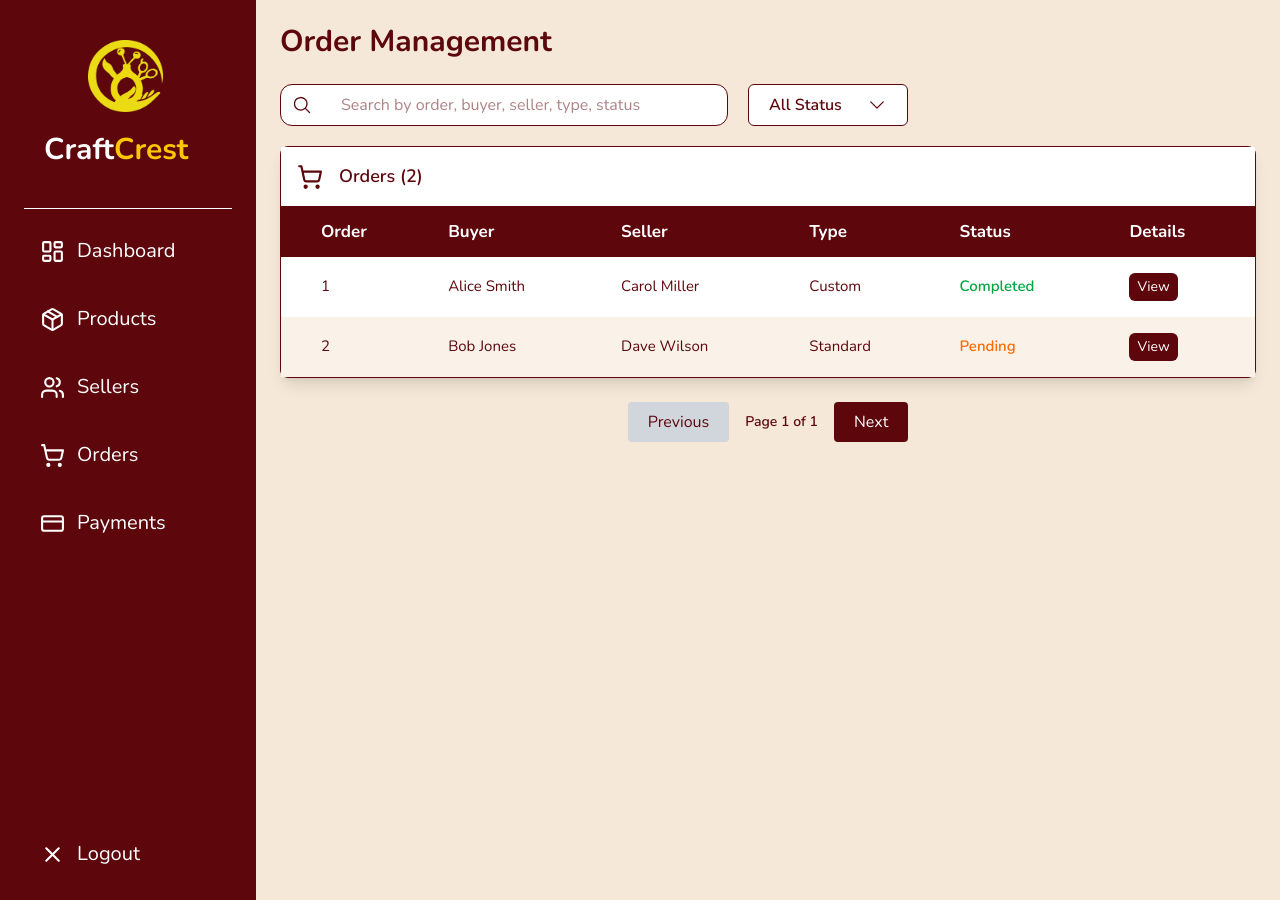
Test: OrdersPage › filters orders by status using dropdown
The image size is (1280, 900).
Click the button "All Status" at (828, 105), box [748,84,908,126]
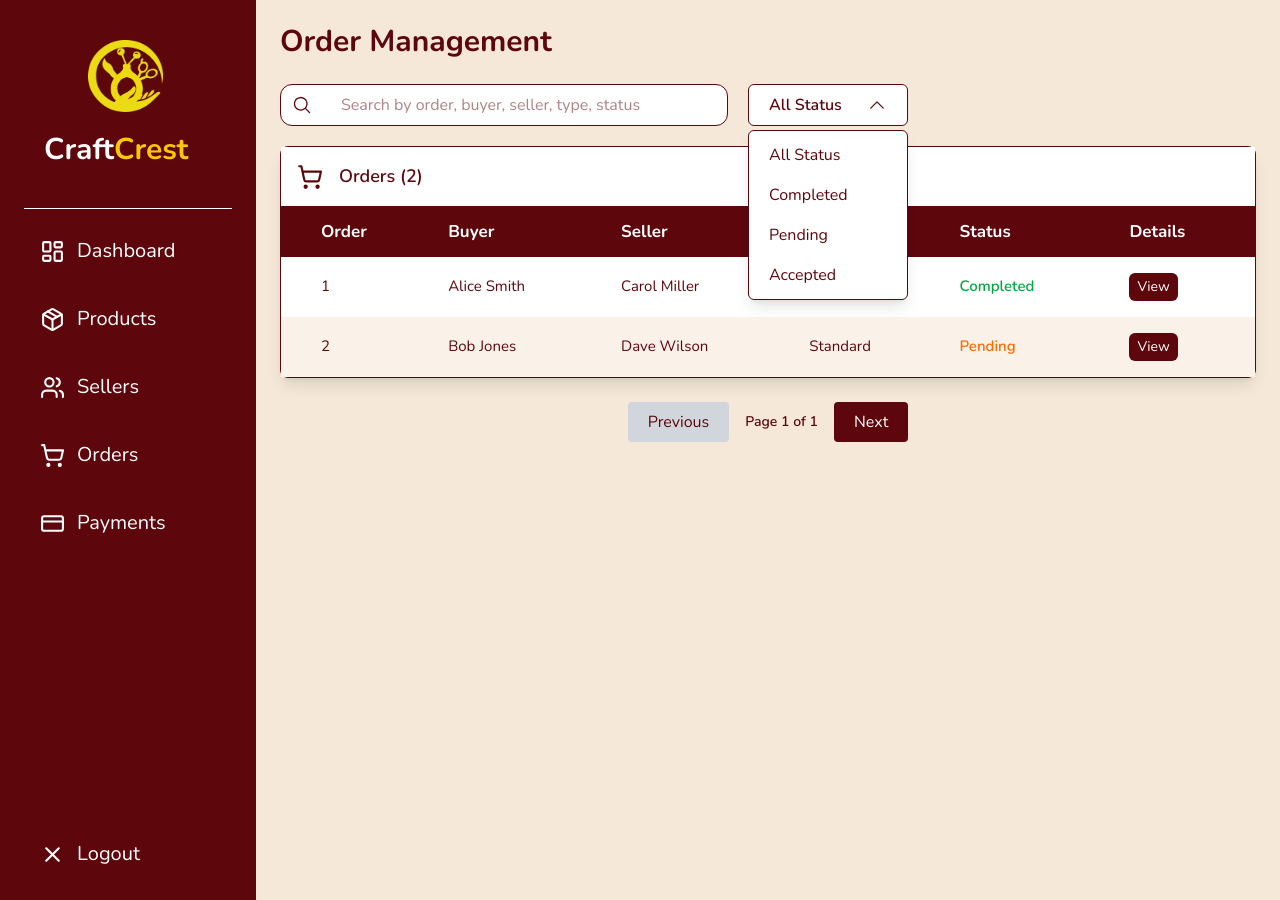
Click the option "Completed" at (808, 195), box [769,184,848,206]
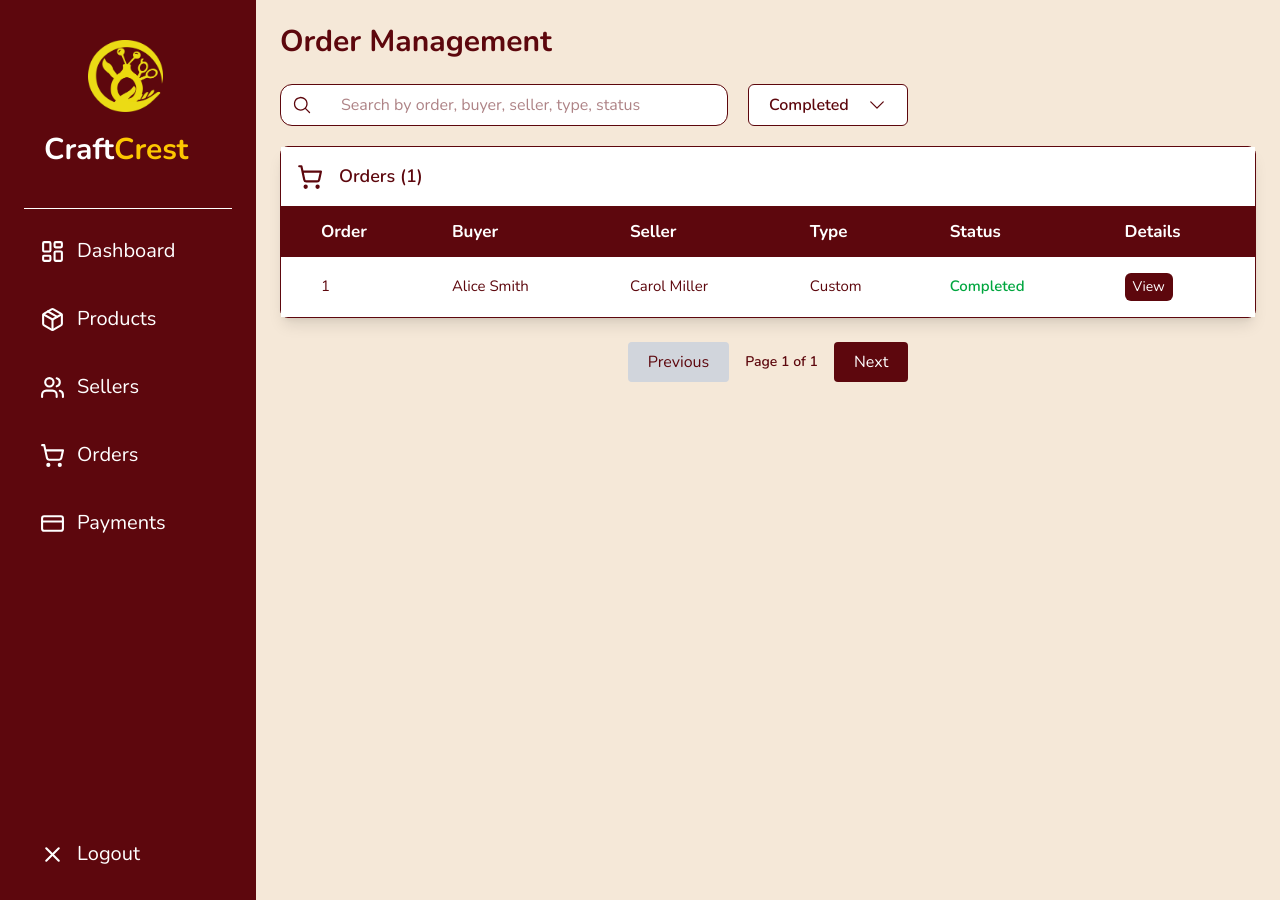
expect the text "Alice Smith" is shown: met, box [412,256,590,316]
expect the text "Bob Jones" is gone: met
